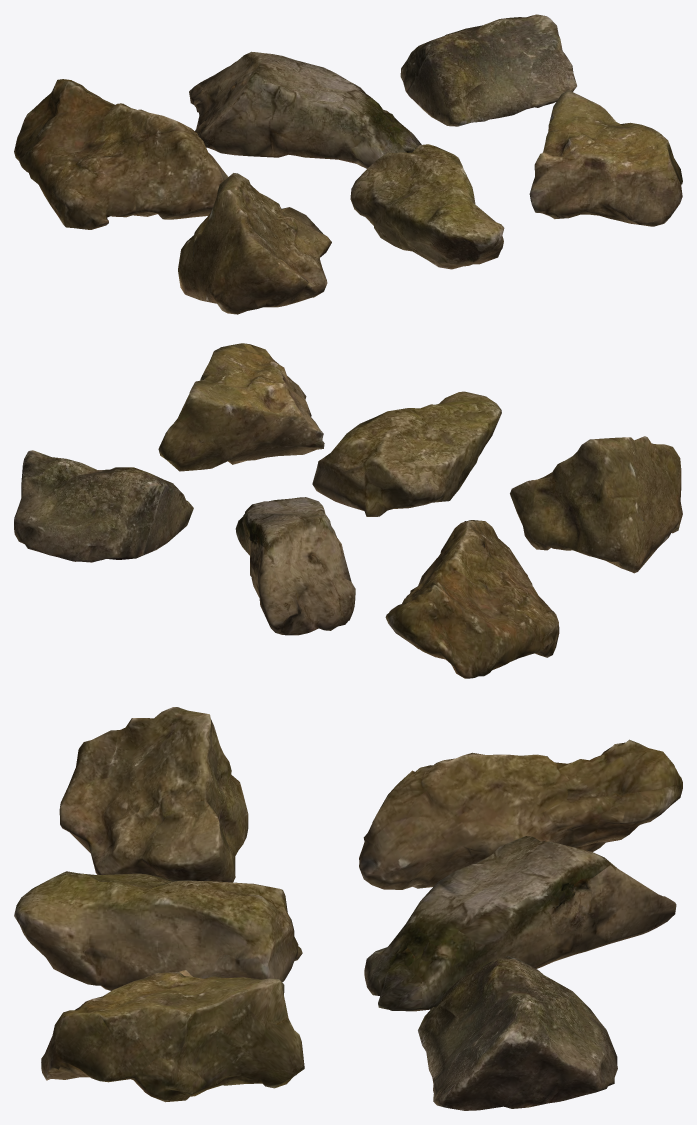
Rendered from rock_moss_set_01.glb.
3 views of the same model, one above another, from view 1: azimuth 30°, elevation 25°; view 2: azimuth 150°, elevation 25°; view 3: azimuth 270°, elevation 25° (orthographic). The views are drawn at different scales.
Visible parts, largest first — view 1: rock_moss_set_01_rock01; view 2: rock_moss_set_01_rock01; view 3: rock_moss_set_01_rock01.
Part boxes in pixels (x1,y1,x2,y2): rock_moss_set_01_rock01: [14, 14, 682, 314]; rock_moss_set_01_rock01: [14, 343, 682, 678]; rock_moss_set_01_rock01: [14, 707, 682, 1110].
Size of the model in its own units: 8 by 1.76 by 6.94.
1 material, 1 textured.
